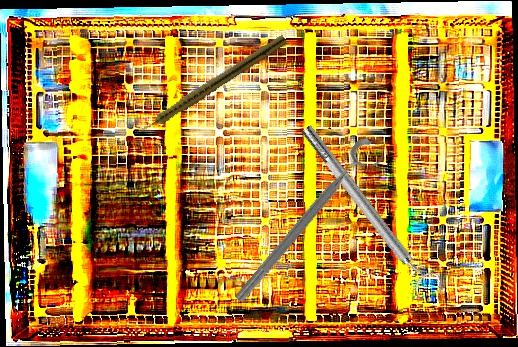Fixation Ring: (230, 134, 388, 315), (293, 117, 446, 303)
Handpiece: (134, 31, 289, 138)
